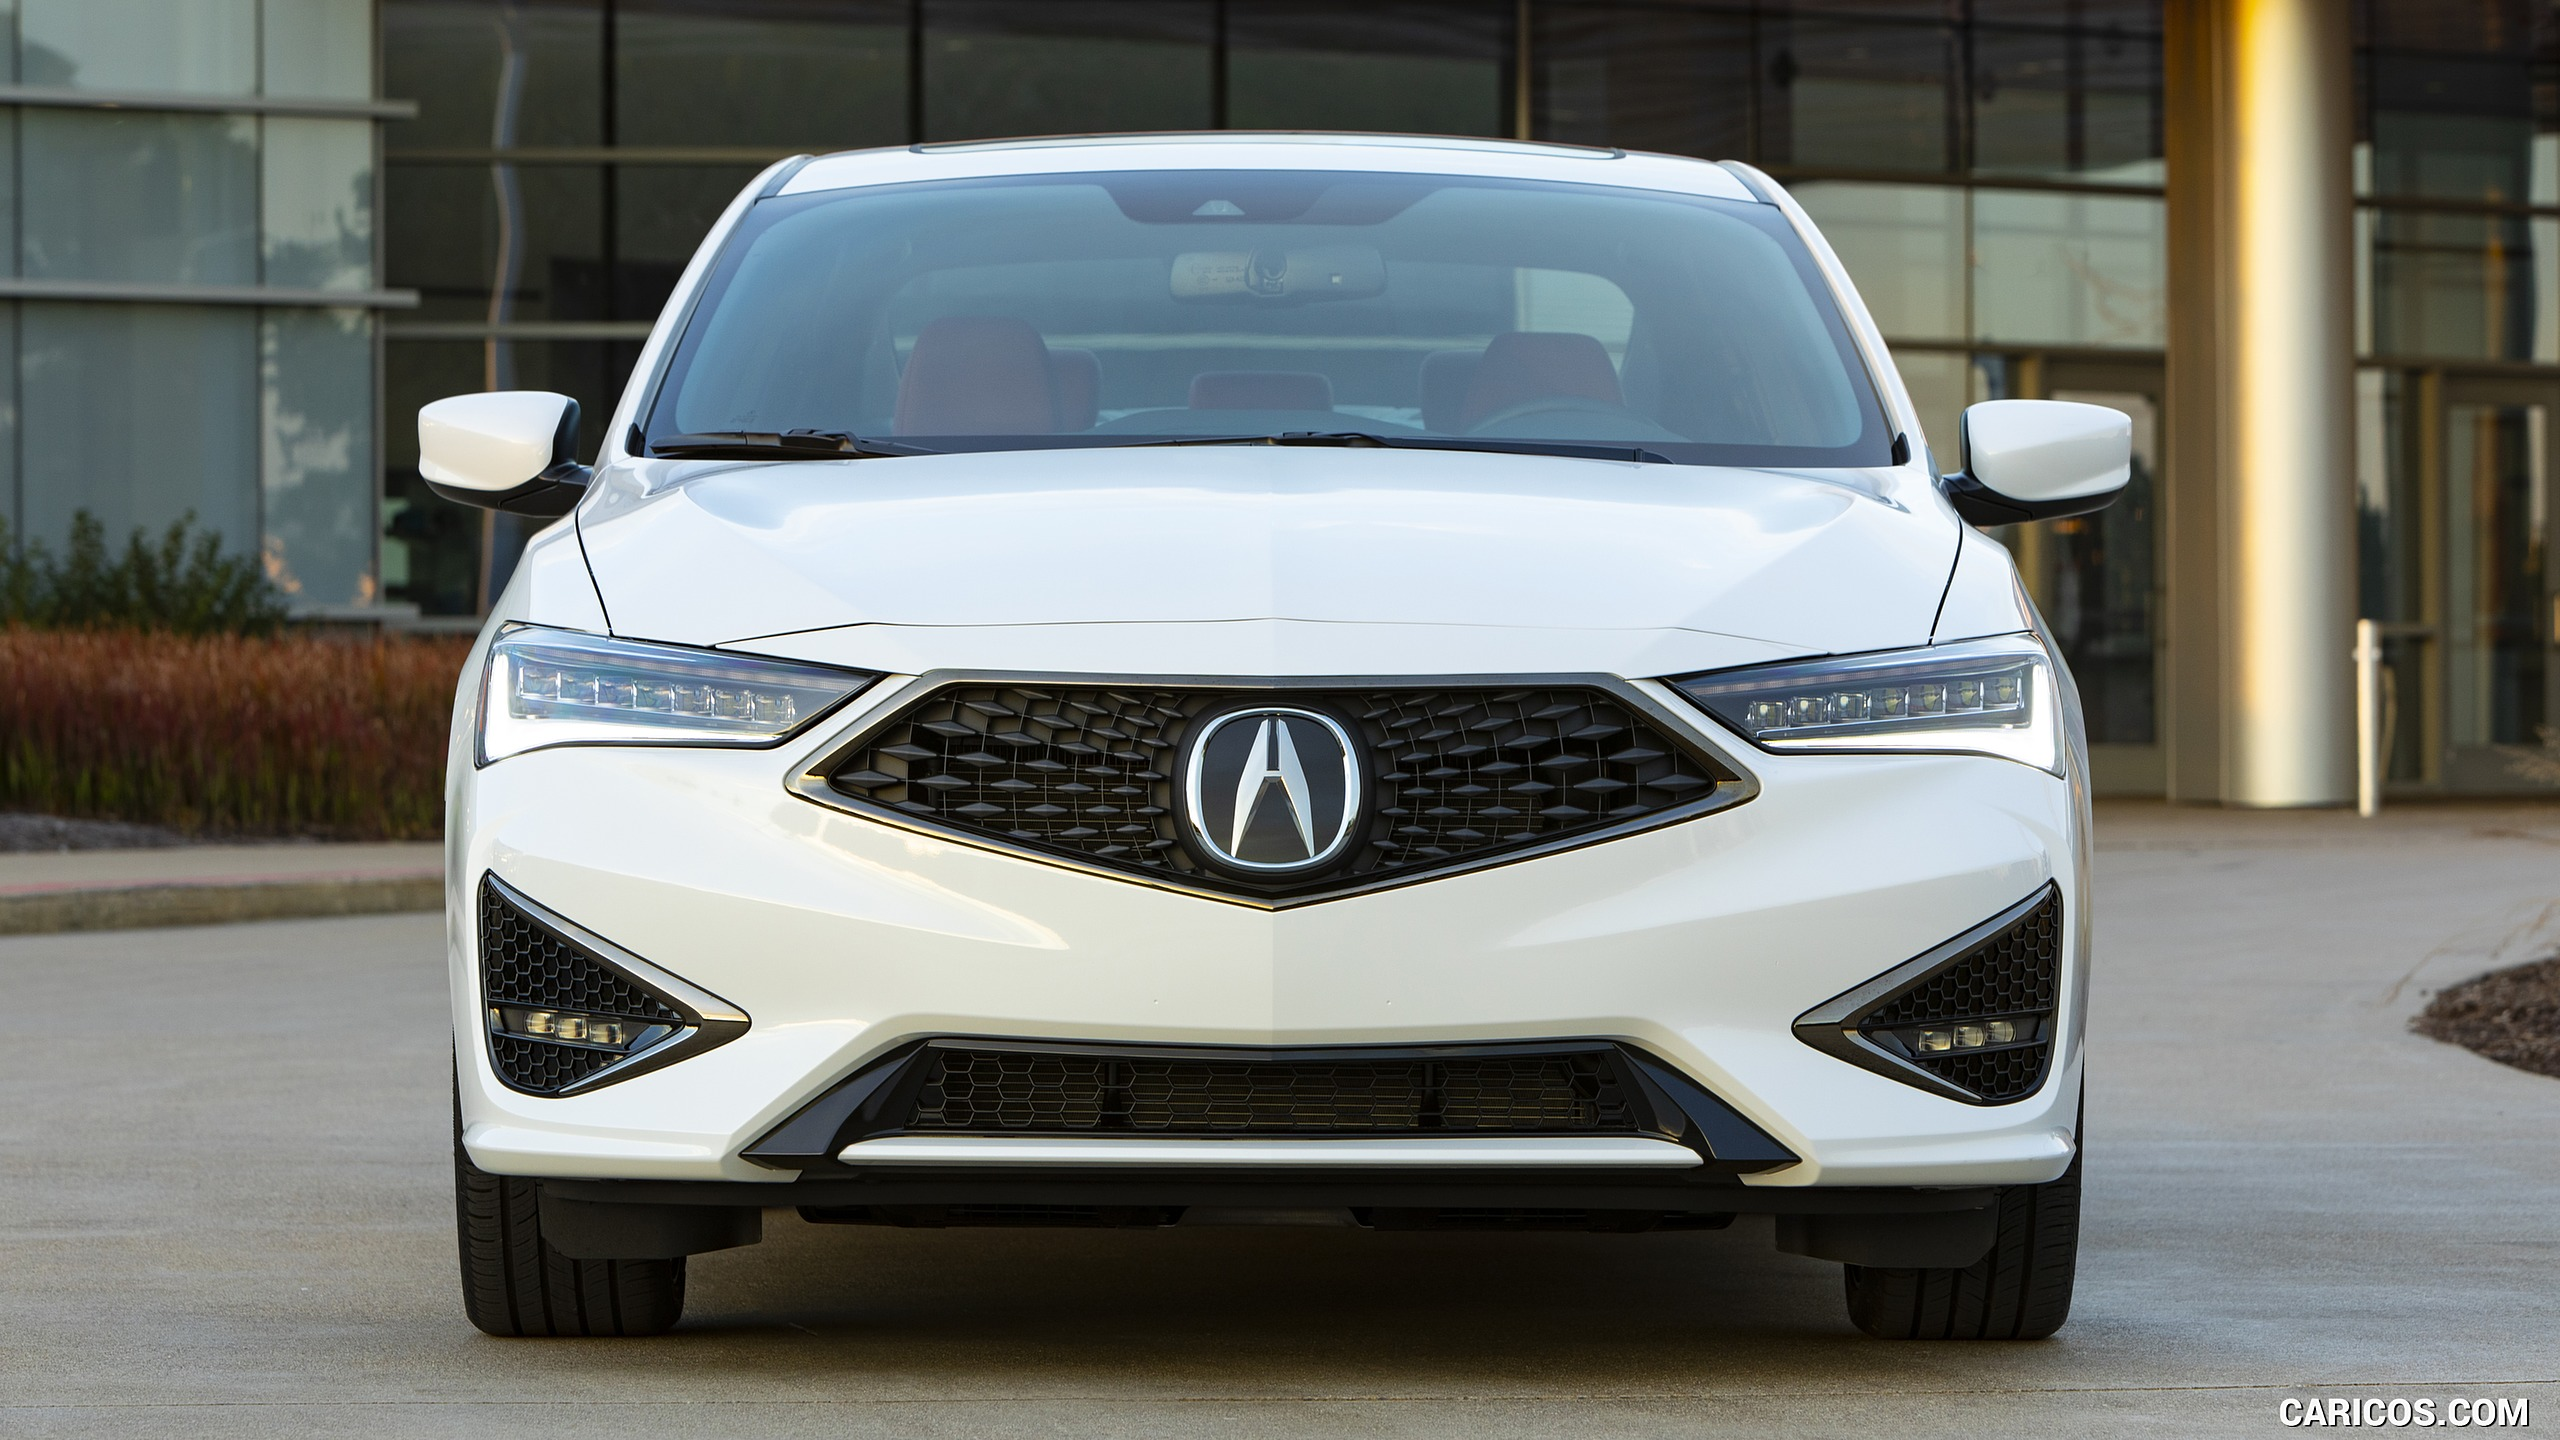Fog Lamp & Scope: (1853, 928, 2069, 1090)
Front: (443, 445, 2076, 1180)
Front Bumper: (424, 904, 2076, 1199)
Grill: (858, 686, 1711, 876)
Headlight: (1718, 638, 2075, 763)
